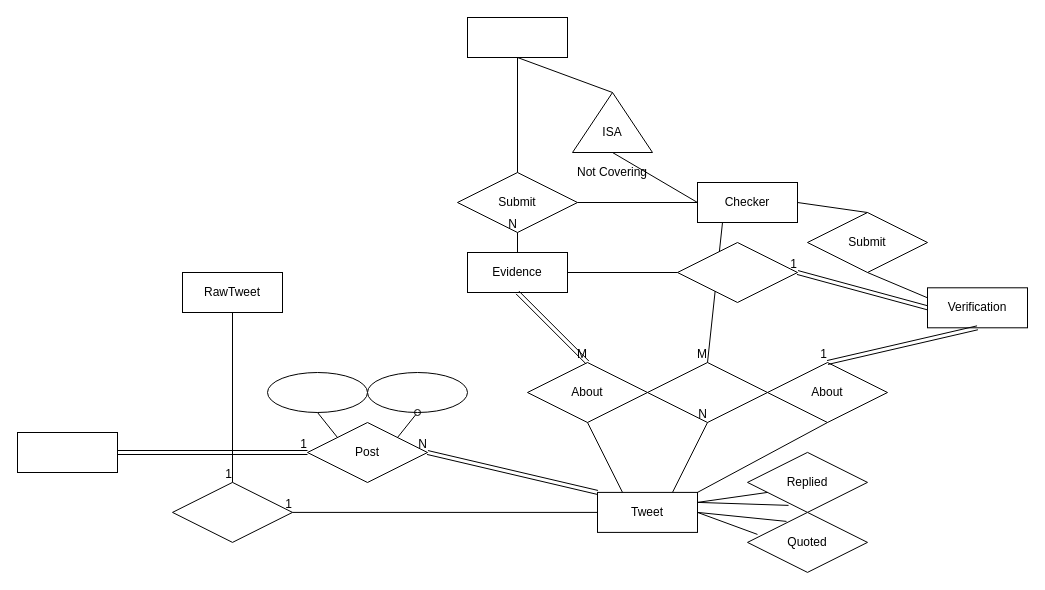
This 1045x590 diagram has some shape labels left out. The shapes that lost their labels are listed below. From the top down, each one's centre as x and y in pixels, then its label:
At pixel 517 37: "User".
At pixel 737 272: "Use two or more Evidence".
At pixel 317 392: "Date".
At pixel 417 392: "Location".
At pixel 707 392: "Verify".
At pixel 67 452: "Tweeter".
At pixel 232 511: "Processed".
